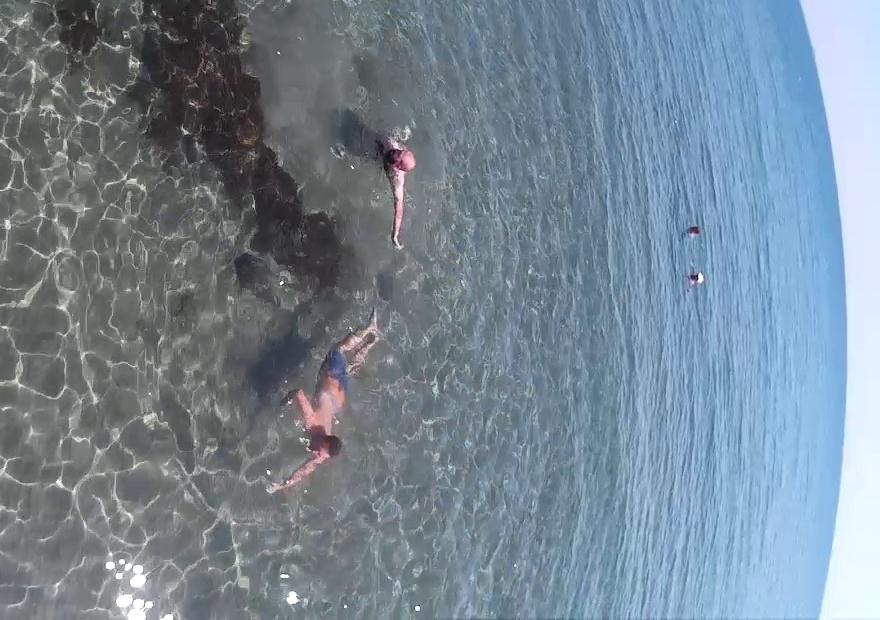human: (270, 296, 369, 509), (332, 82, 426, 279), (690, 262, 708, 292), (686, 220, 704, 243)
